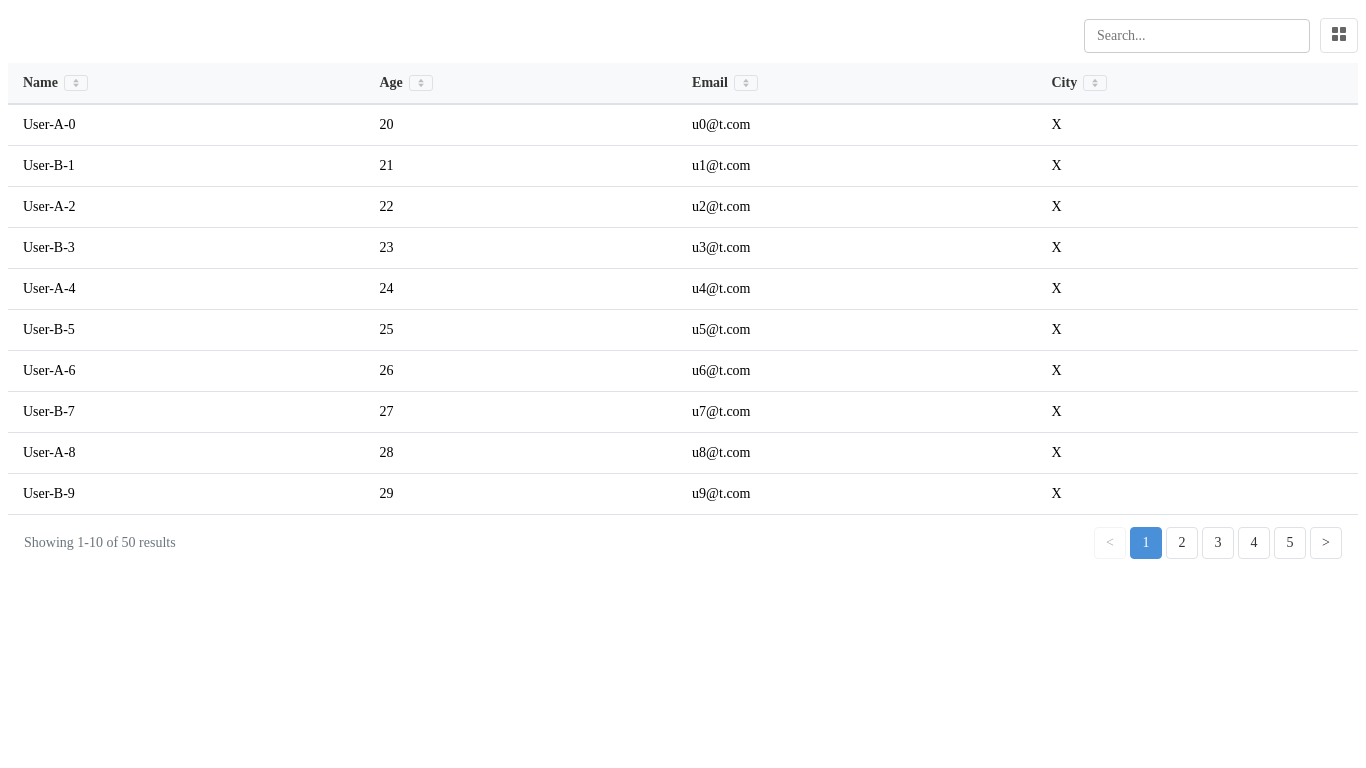
Test: Robustness › search + sort + pagination combined
The width and height of the screenshot is (1366, 768).
Filter to User-A entries
Type "User-A" into the field named "Search table data".
click(1197, 36); type("User-A")  # box [1084,18,1310,52]
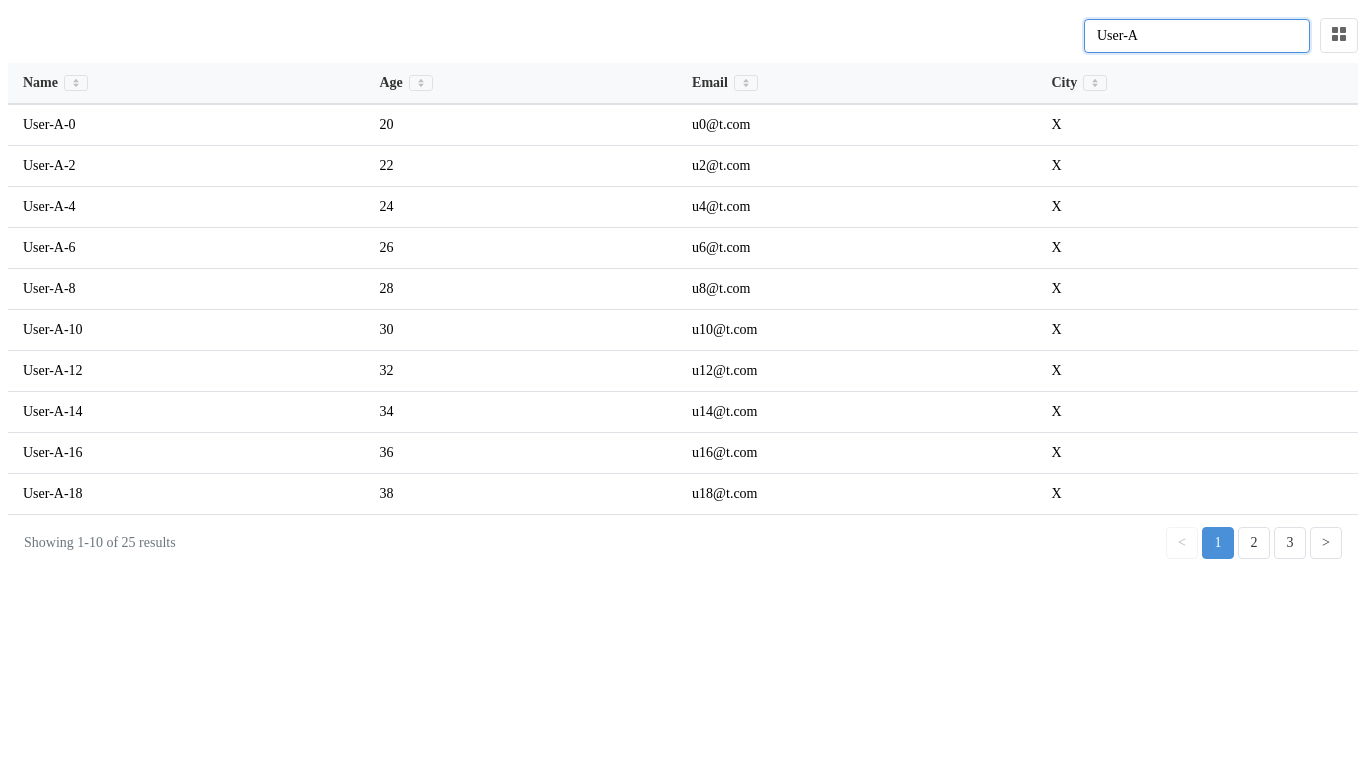
Sort ascending
Click the button named "Sort by Name".
click(76, 83)  # box [64,75,88,91]
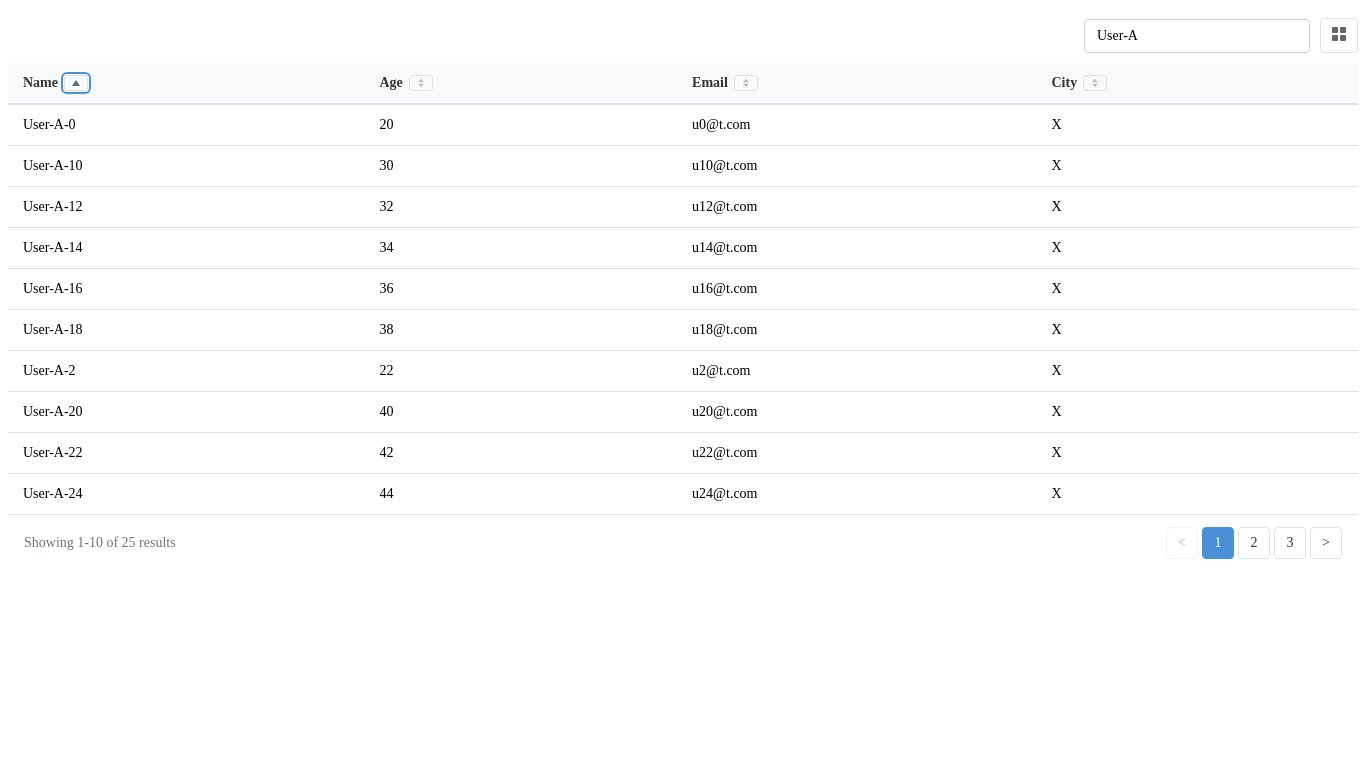
Click the button named "Page 2".
click(1254, 543)  # box [1238,527,1270,559]
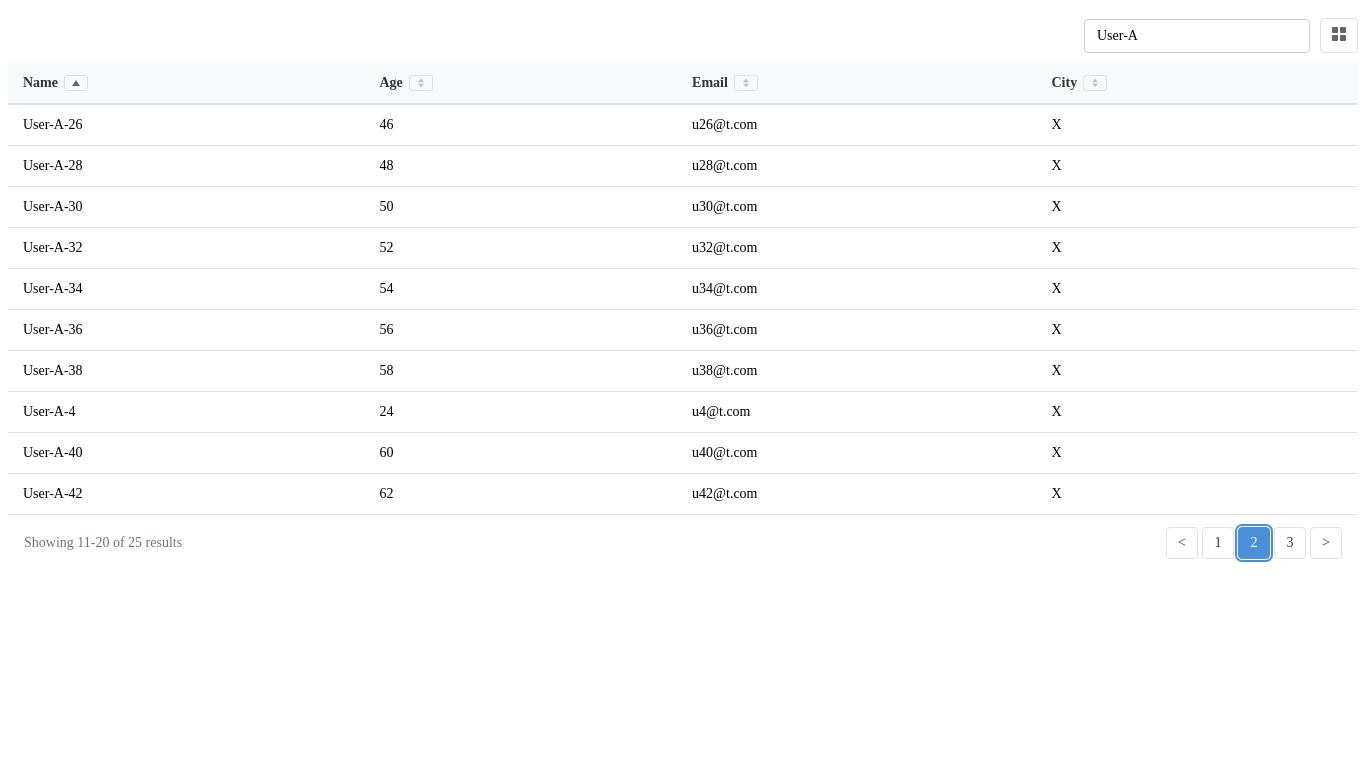
Now the text "Showing 11-20 of 25 results" is shown, box [24,535,182,551]
